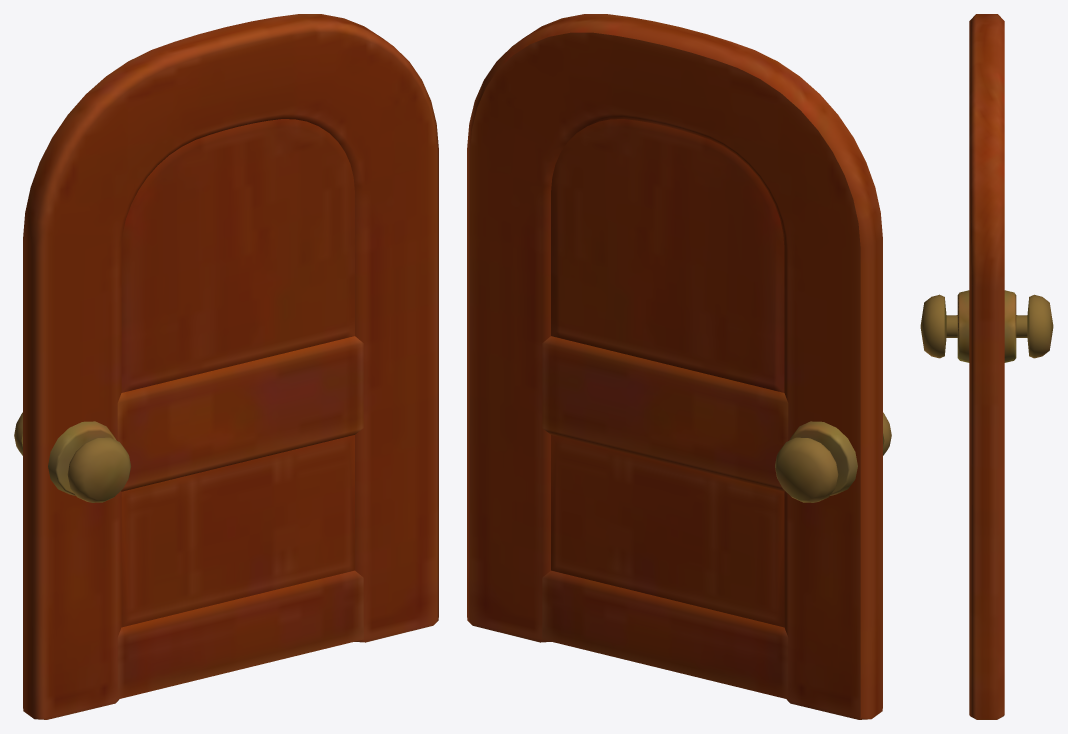
File: door-standard-r.glb
3 views of the same model, side by side, from view 1: azimuth 30°, elevation 25°; view 2: azimuth 150°, elevation 25°; view 3: azimuth 270°, elevation 25° (orthographic). The views are drawn at different scales.
Bounding box in the file's own units: 12 × 18 × 3.74.
1 material, 1 textured.
